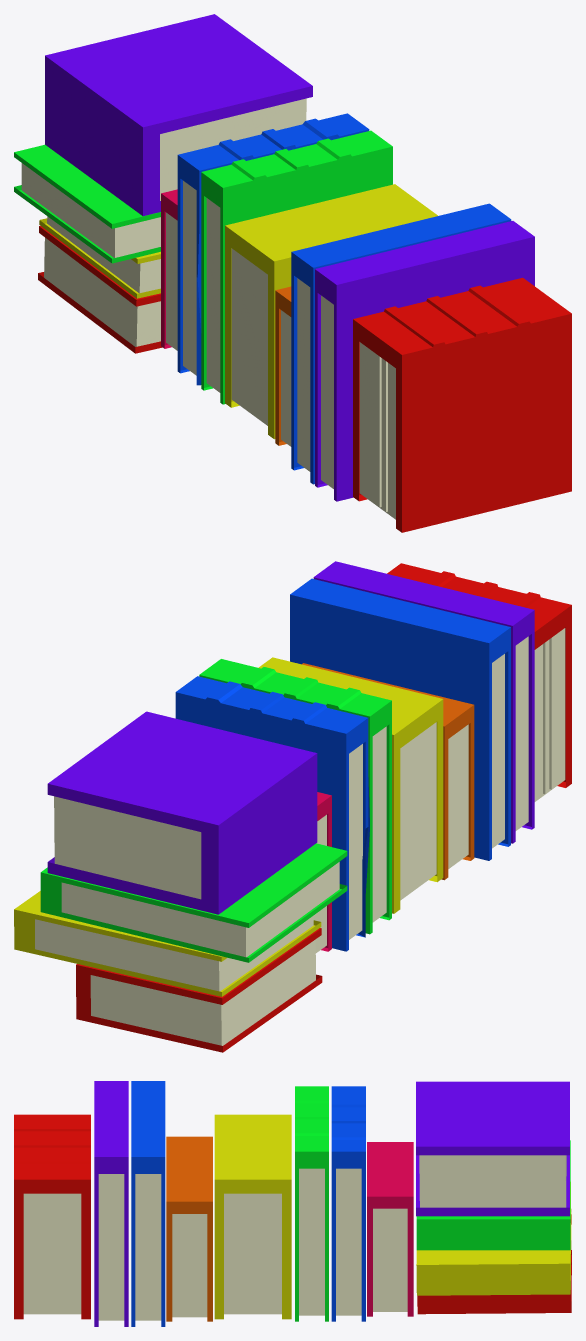
Rendered from Books.fbx.
3 renders of one model, top to bottom at view 1: azimuth 30°, elevation 25°; view 2: azimuth 150°, elevation 25°; view 3: azimuth 270°, elevation 25°, orthographic. The views are drawn at different scales.
Visible parts, largest first — view 1: Cube.001, Cube.017, Cube.002, Cube.013, Cube.014, Cube.005, Cube.010, Cube.015, Cube, Cube.023, Cube.018, Cube.016 (+12 smaller); view 2: Cube.017, Cube.005, Cube.010, Cube.016, Cube.023, Cube.019, Cube.002, Cube.018, Cube.020, Cube.013, Cube.014, Cube.015 (+12 smaller); view 3: Cube.017, Cube.014, Cube.001, Cube.016, Cube, Cube.021, Cube.015, Cube.018, Cube.006, Cube.002, Cube.005, Cube.009 (+9 smaller).
Boxes of the visible parts, bbox=[...] form: Cube.001: bbox=[353, 277, 571, 532]; Cube.017: bbox=[45, 14, 312, 216]; Cube.002: bbox=[315, 221, 534, 501]; Cube.013: bbox=[201, 130, 392, 404]; Cube.014: bbox=[225, 184, 437, 439]; Cube.005: bbox=[291, 203, 511, 484]; Cube.010: bbox=[177, 113, 369, 385]; Cube.015: bbox=[231, 248, 267, 425]; Cube: bbox=[359, 342, 395, 519]; Cube.023: bbox=[44, 237, 160, 346]; Cube.018: bbox=[14, 144, 160, 263]; Cube.016: bbox=[160, 98, 306, 200]; Cube.017: bbox=[47, 711, 317, 914]; Cube.005: bbox=[290, 578, 510, 860]; Cube.010: bbox=[175, 676, 369, 951]; Cube.016: bbox=[54, 796, 201, 899]; Cube.023: bbox=[90, 939, 315, 1045]; Cube.019: bbox=[61, 862, 339, 957]; Cube.002: bbox=[313, 561, 534, 843]; Cube.018: bbox=[40, 843, 347, 962]; Cube.020: bbox=[35, 915, 313, 991]; Cube.013: bbox=[199, 659, 391, 934]; Cube.014: bbox=[258, 657, 443, 913]; Cube.015: bbox=[400, 722, 436, 900]; Cube.017: bbox=[416, 1081, 569, 1216]; Cube.014: bbox=[214, 1114, 291, 1319]; Cube.001: bbox=[14, 1114, 90, 1319]; Cube.016: bbox=[419, 1155, 566, 1207]; Cube: bbox=[23, 1193, 81, 1314]; Cube.021: bbox=[416, 1182, 571, 1295]; Cube.015: bbox=[224, 1193, 281, 1314]; Cube.018: bbox=[416, 1140, 570, 1250]; Cube.006: bbox=[166, 1136, 212, 1321]; Cube.002: bbox=[94, 1081, 128, 1326]; Cube.005: bbox=[131, 1081, 165, 1326]; Cube.009: bbox=[367, 1142, 413, 1316].
Size of the model in its own units: 275 by 257 by 725.
